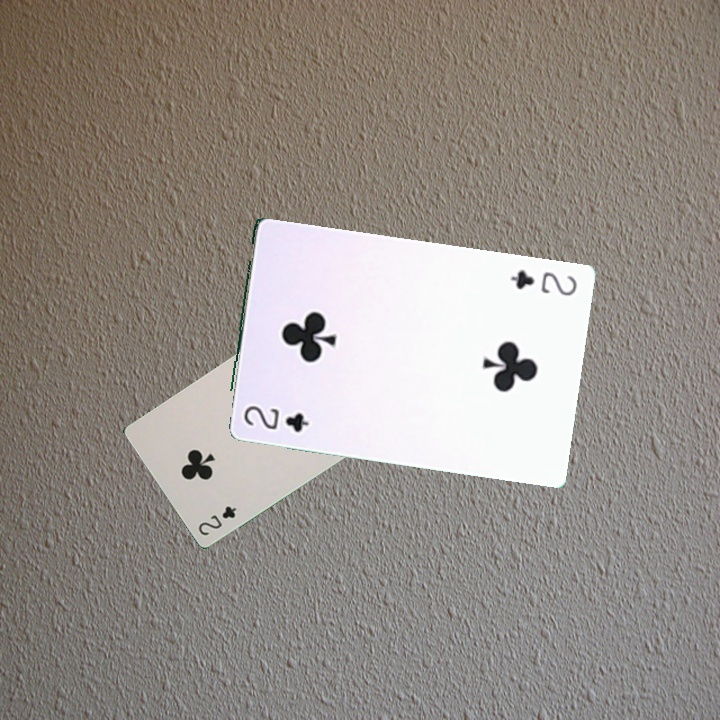2c: (239, 401, 312, 435), (506, 266, 580, 299), (194, 502, 239, 538)
